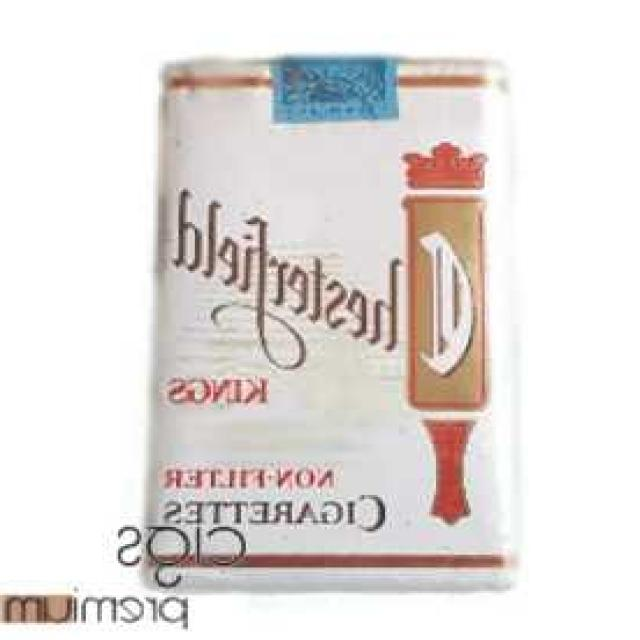chesterfield: (142, 61, 490, 579)
